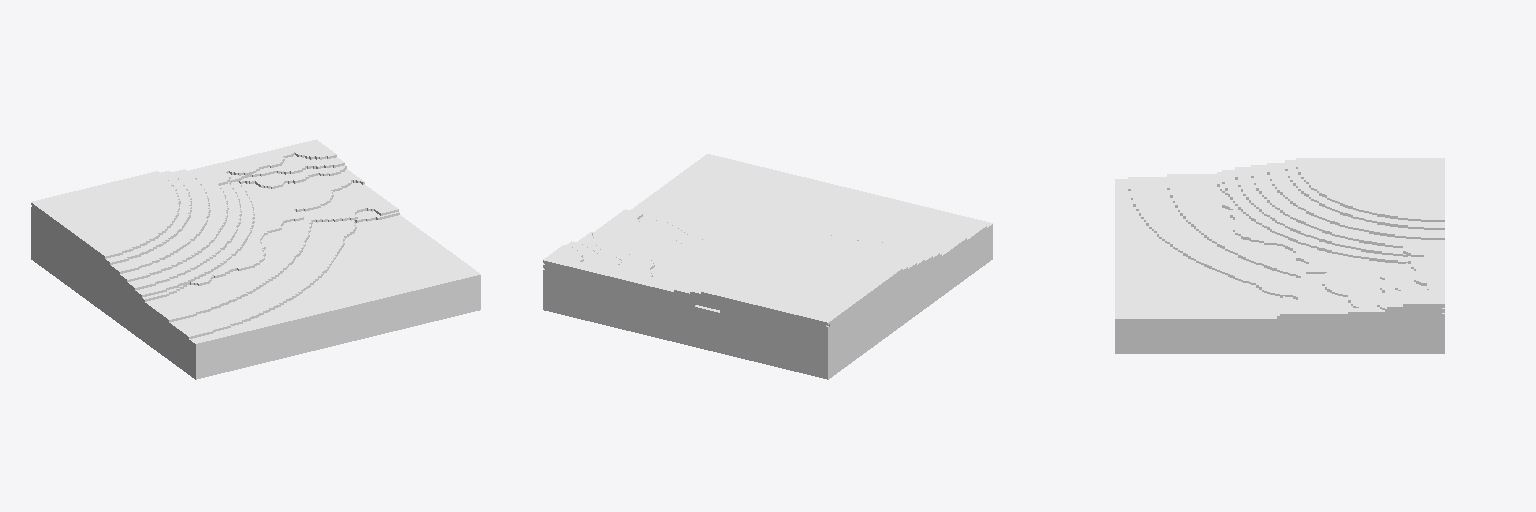
Rendered from huwaif.obj.
3 renders of one model, left to right at view 1: azimuth 30°, elevation 25°; view 2: azimuth 150°, elevation 25°; view 3: azimuth 270°, elevation 25°, orthographic.
Parts seen in each view (by area): view 1: object 1; view 2: object 1; view 3: object 1.
Boxes of the visible parts, x1,y1,x2,y2 form: object 1: [31, 139, 480, 379]; object 1: [543, 154, 992, 379]; object 1: [1115, 158, 1444, 353].
Bounding box in the file's own units: 12.6 × 2.4 × 12.6.